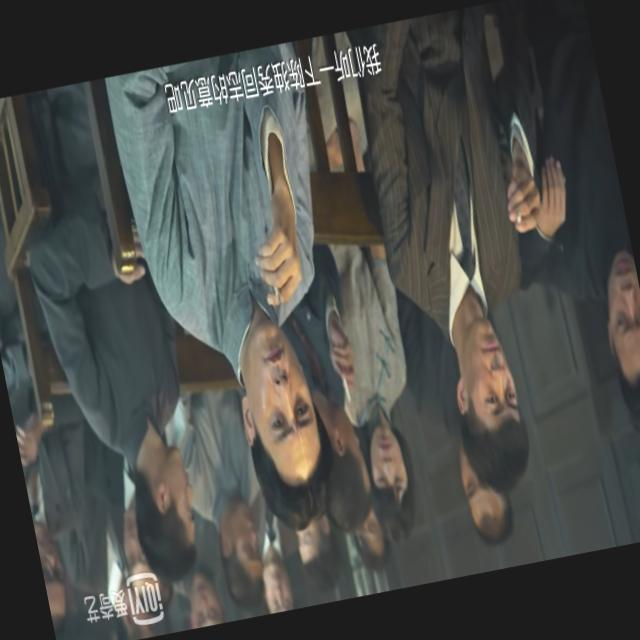cigarette: (268, 277, 284, 311), (509, 204, 526, 228)
